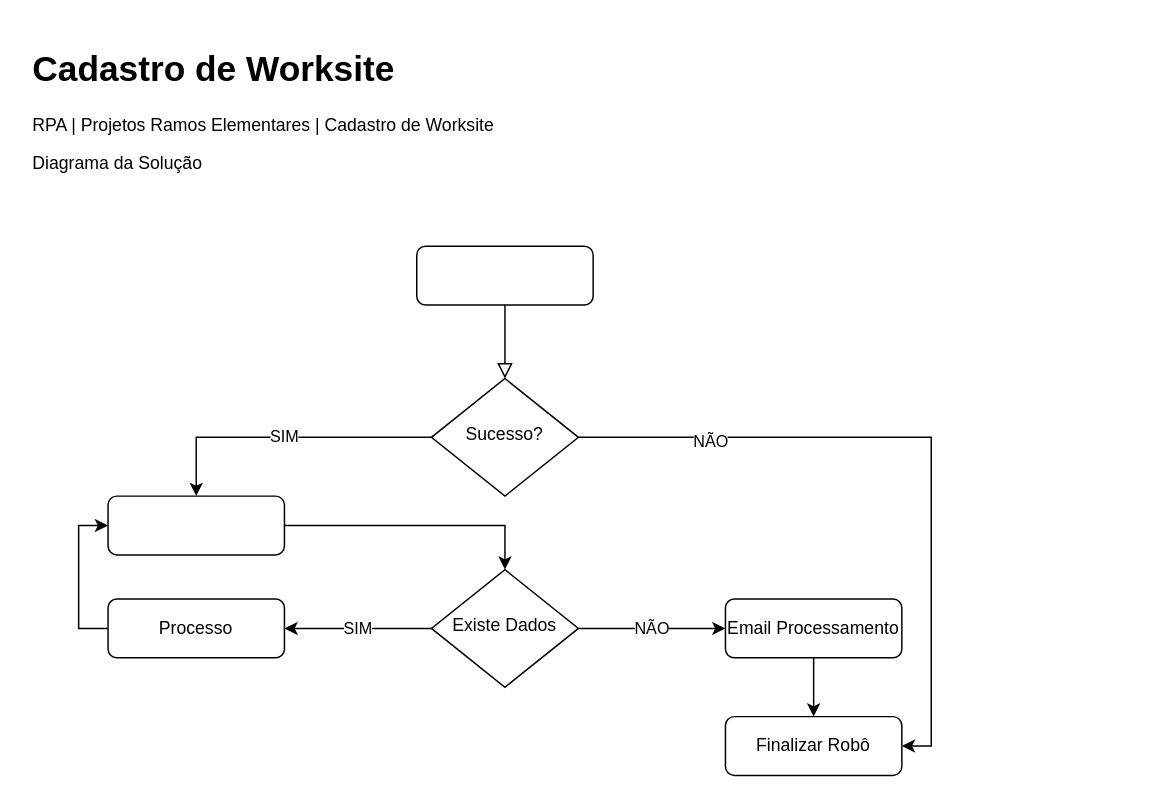
This 1167x801 diagram has some shape labels left out. Here are the shapes that lost their labels. From the top down, the centre of each, then its label:
At [504,275]: "Inciando Robô".
At [195,525]: "Obter Dados".
